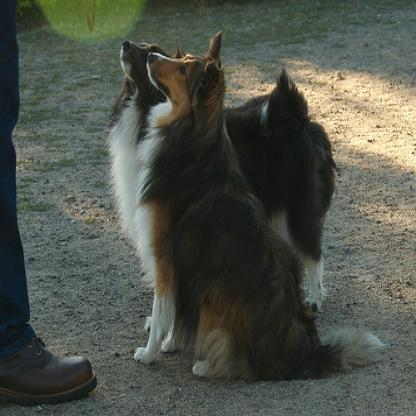Shetland_sheepdog: (132, 26, 388, 382), (92, 33, 336, 332)
